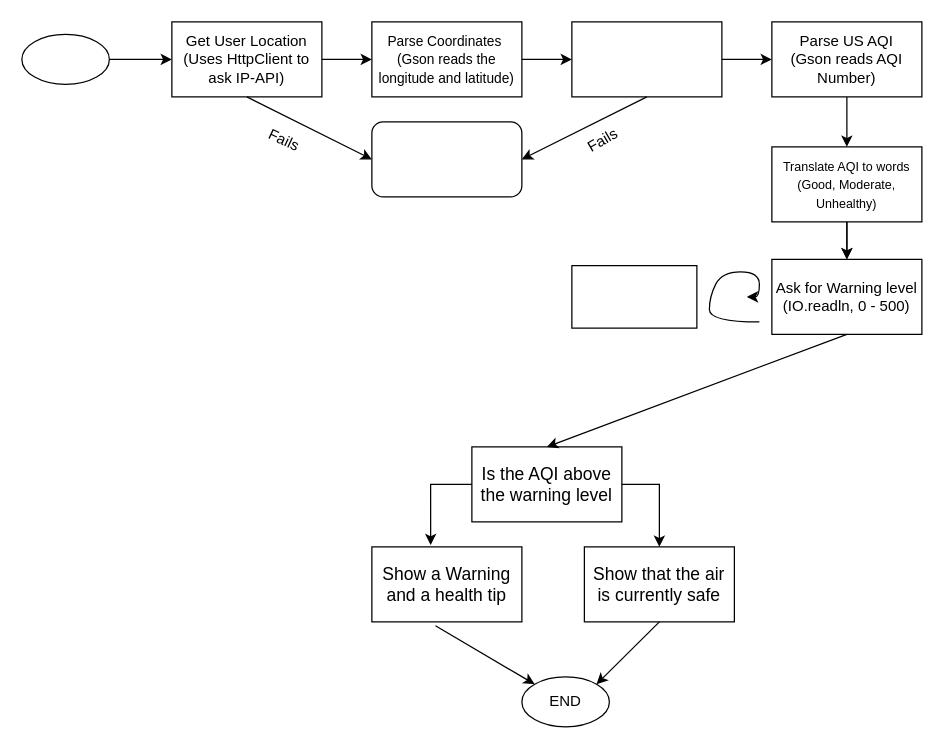
Some shapes in this 944 by 749 pixel diagram are drawn without their labels. Here are the shapes that lost their labels. From the top down, the centre of each, then its label:
At [65,58]: "START".
At [646,59]: "Fetch Air Quality (Uses HttpClient to send coordinates to Metro API)".
At [446,159]: "Shows Error and ends the program".
At [634,296]: "Keeps asking until it gets a valid number".
